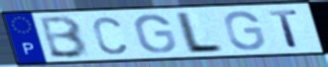B: (38, 14, 91, 60)
C: (91, 15, 129, 56)
G: (222, 9, 268, 52), (133, 13, 179, 55)
L: (175, 10, 225, 55)
T: (267, 8, 302, 49)
